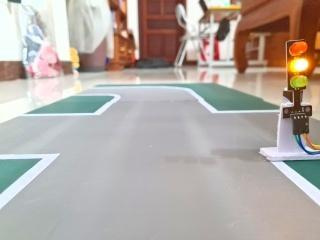yellow: (277, 30, 318, 103)
